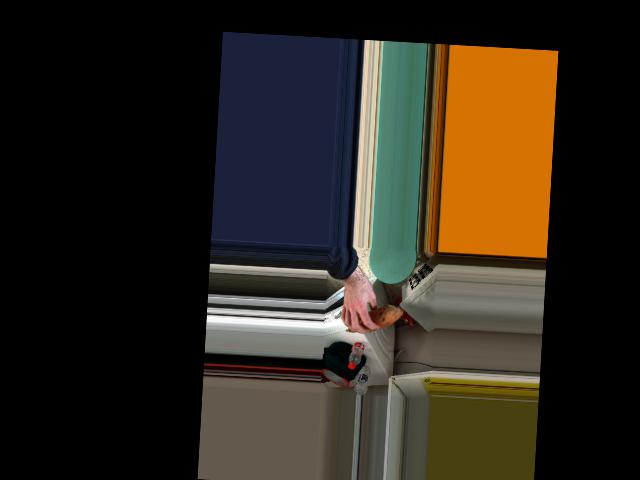sweet_potato: (343, 307, 398, 334)
